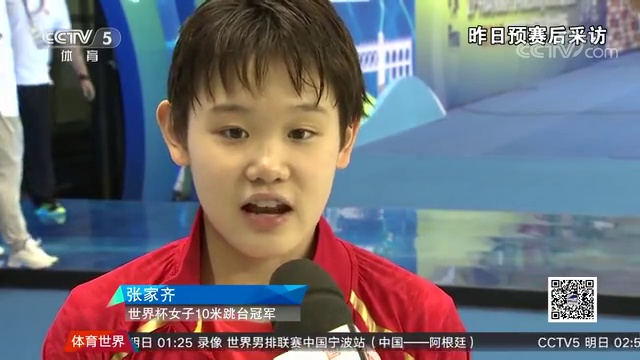face: (189, 60, 339, 254)
